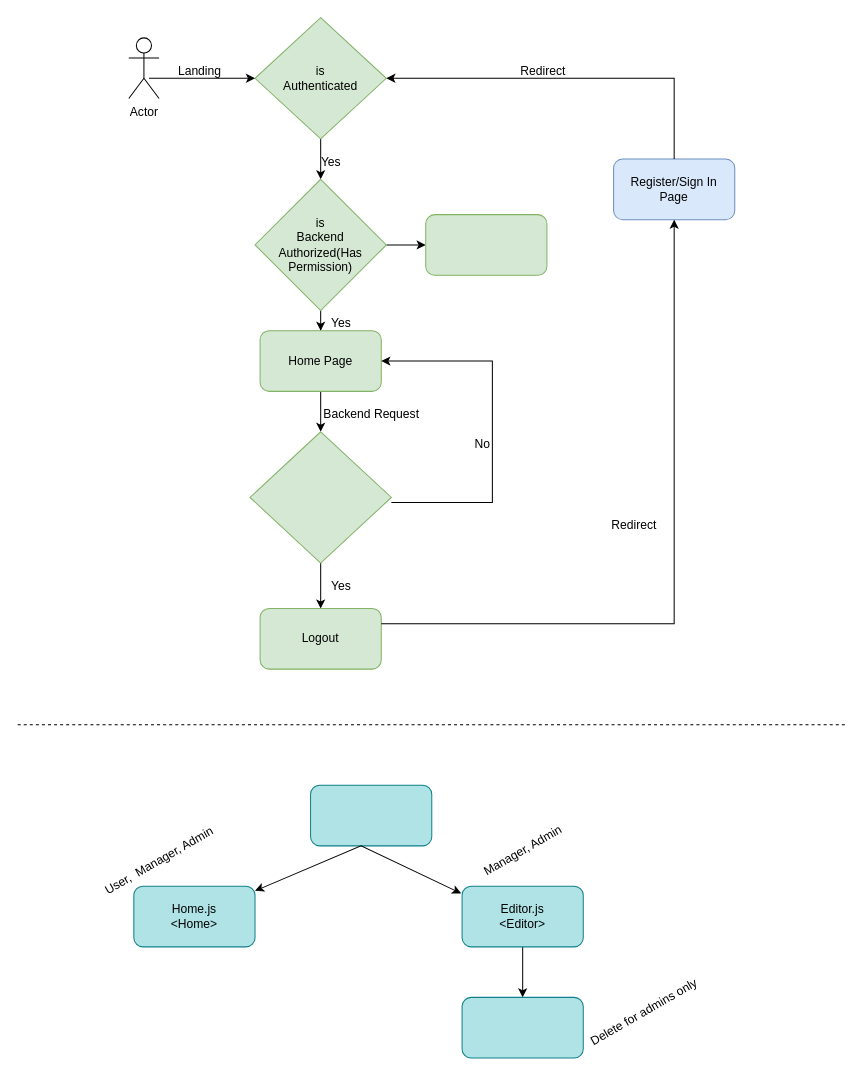
Image size: 865x1079. Some labels were removed from this diagram. The shapes that lost their labels are listed below. From the top down, each one's box as (x1, y1, x2, y2) in pixels, then its label:
(425, 214, 547, 275): Unauthorised Page
(249, 431, 391, 563): is Backend token Expired?
(310, 784, 432, 846): <Outlet>
(461, 996, 583, 1058): Posts.js <Posts>
